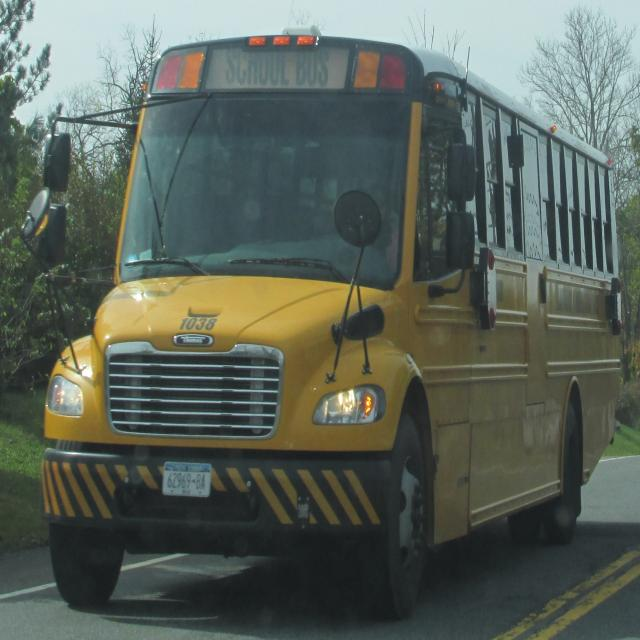Bus: (28, 32, 624, 609)
